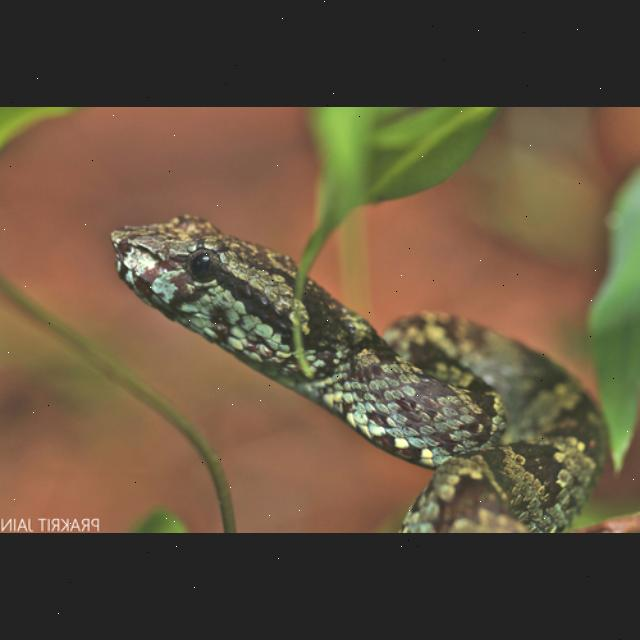snake: (108, 199, 608, 533)
